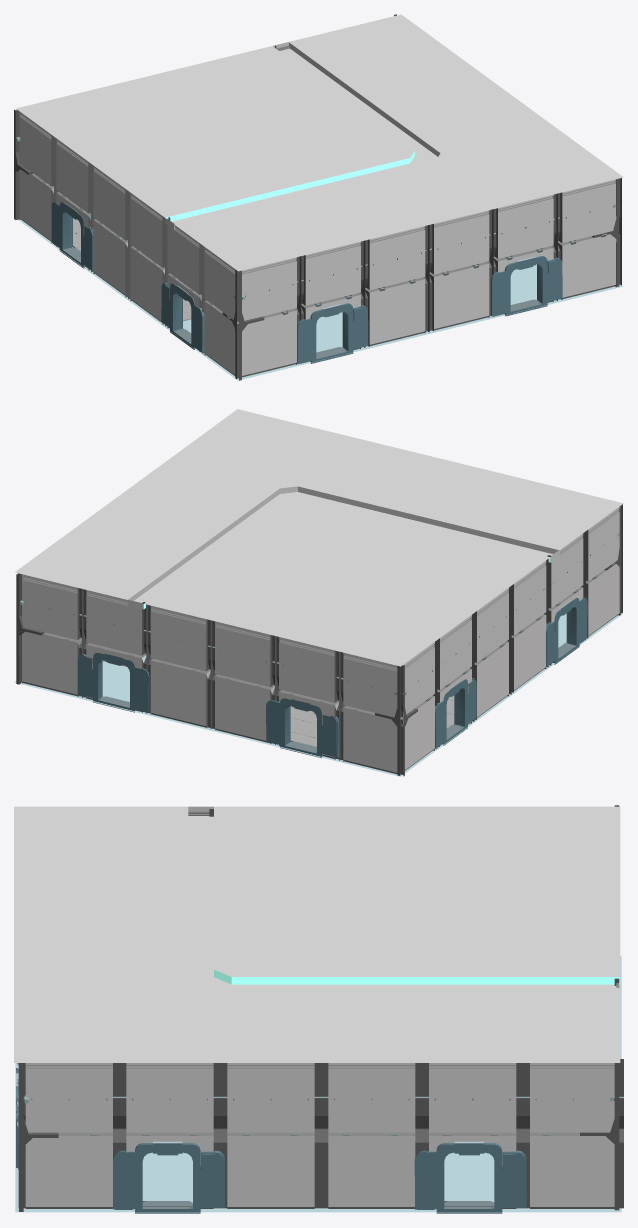
File: PreVis_BigRoomExportJoined 1.fbx
3 views of the same model, one above another, from view 1: azimuth 30°, elevation 25°; view 2: azimuth 150°, elevation 25°; view 3: azimuth 270°, elevation 25° (orthographic). The views are drawn at different scales.
Parts seen in each view (by area): view 1: m_bigRoom01; view 2: m_bigRoom01; view 3: m_bigRoom01.
Boxes of the visible parts, bbox=[...] form: m_bigRoom01: bbox=[14, 14, 623, 380]; m_bigRoom01: bbox=[14, 409, 623, 776]; m_bigRoom01: bbox=[14, 805, 623, 1213].
Bounding box in the file's own units: 2031 × 556 × 2032.
